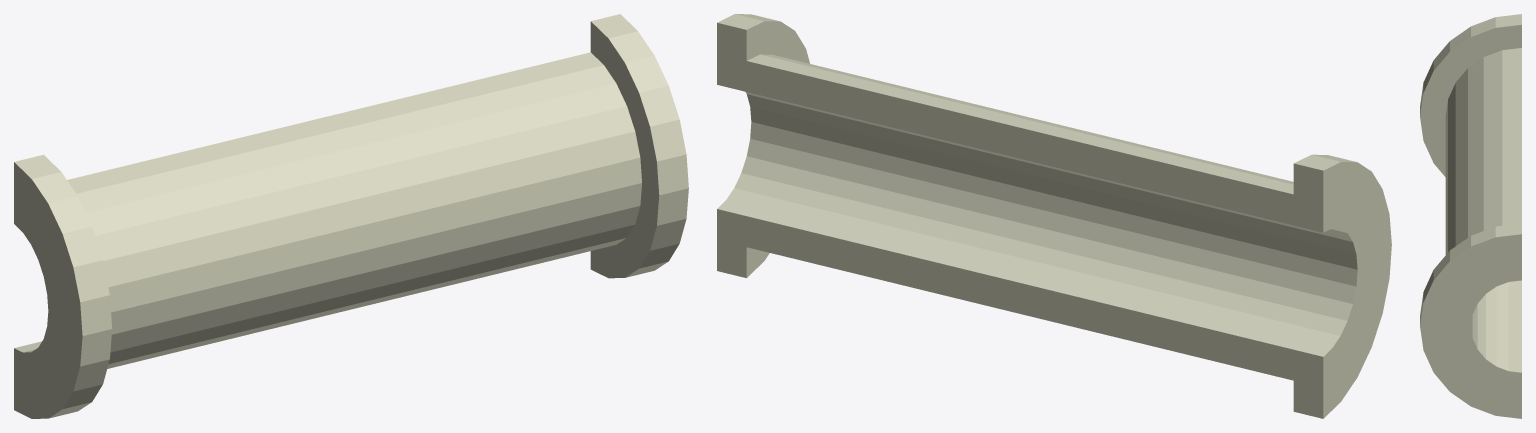
File: section_103.obj
3 renders of one model, left to right at view 1: azimuth 30°, elevation 25°; view 2: azimuth 150°, elevation 25°; view 3: azimuth 270°, elevation 25°, orthographic. The views are drawn at different scales.
Size of the model in its own units: 20.44 by 8 by 4.
